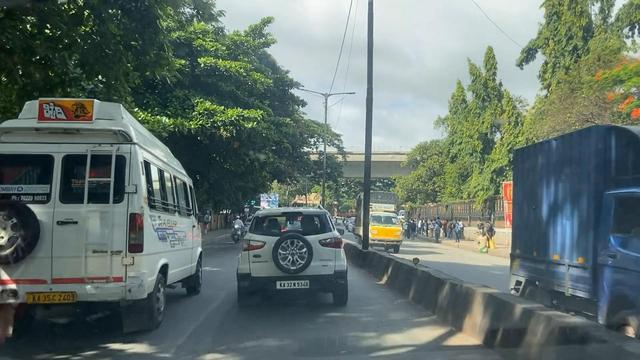HMV: (17, 98, 203, 347)
LMV: (242, 204, 348, 312)
